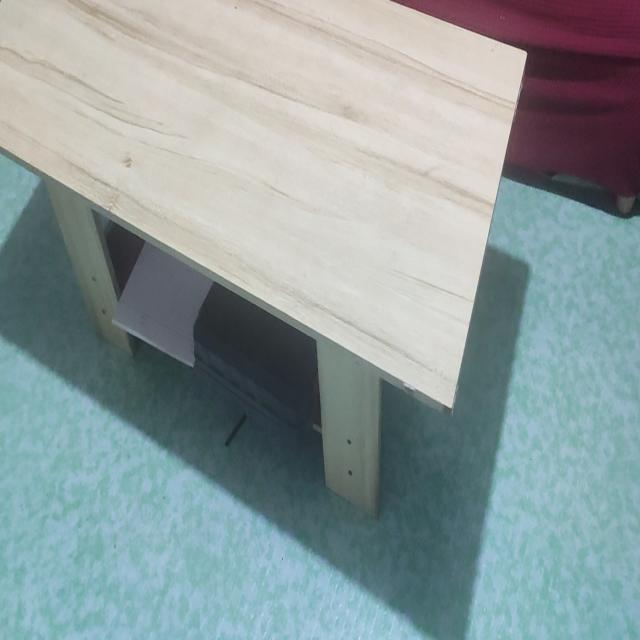table: (0, 0, 531, 528)
